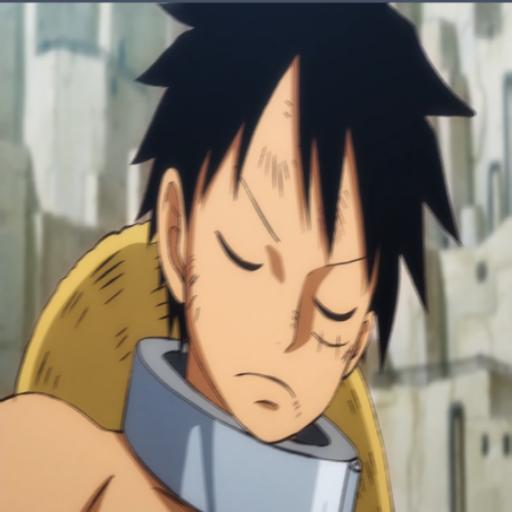Luffy: (33, 0, 456, 512)
